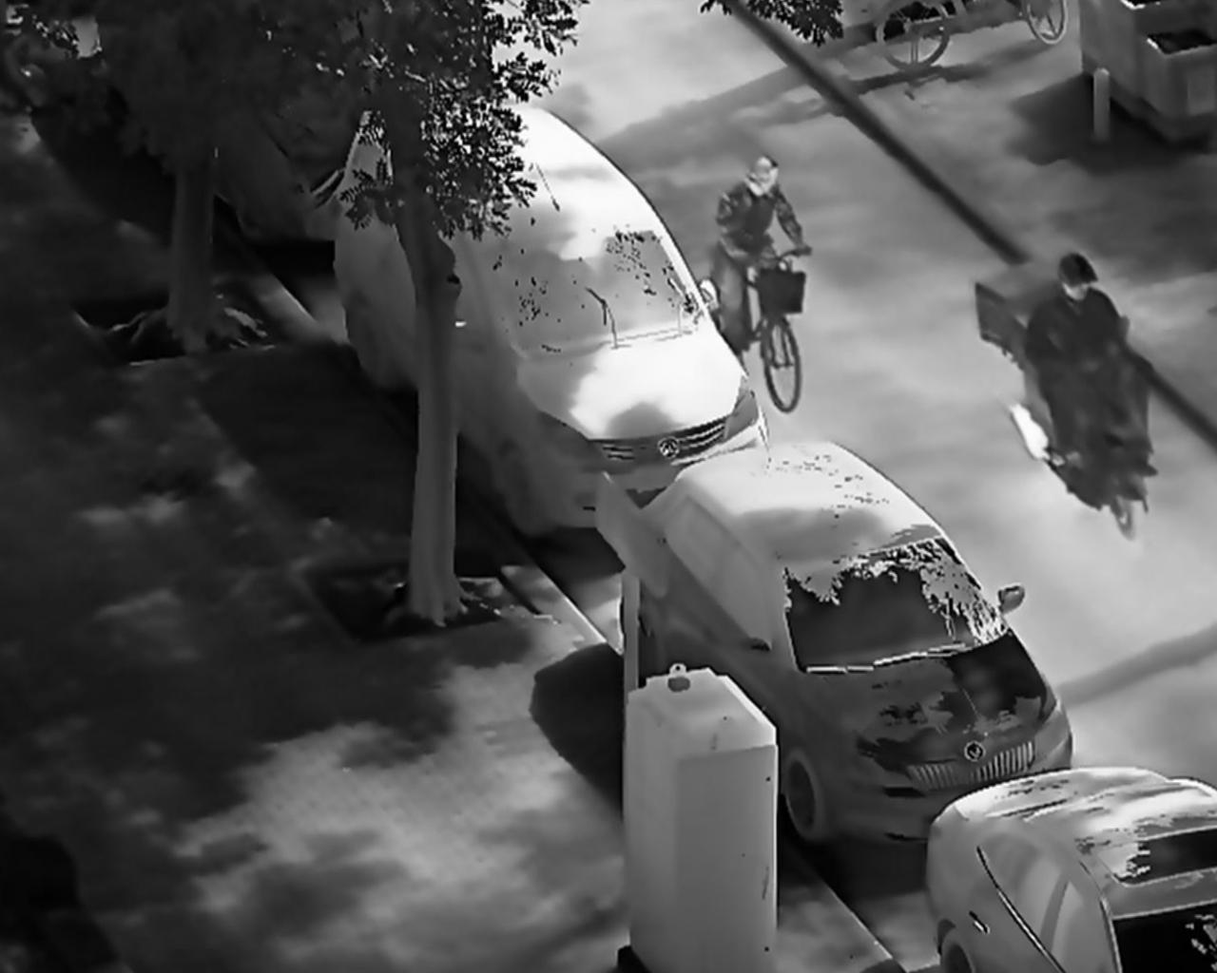person: (1023, 248, 1135, 470), (713, 149, 816, 358)
